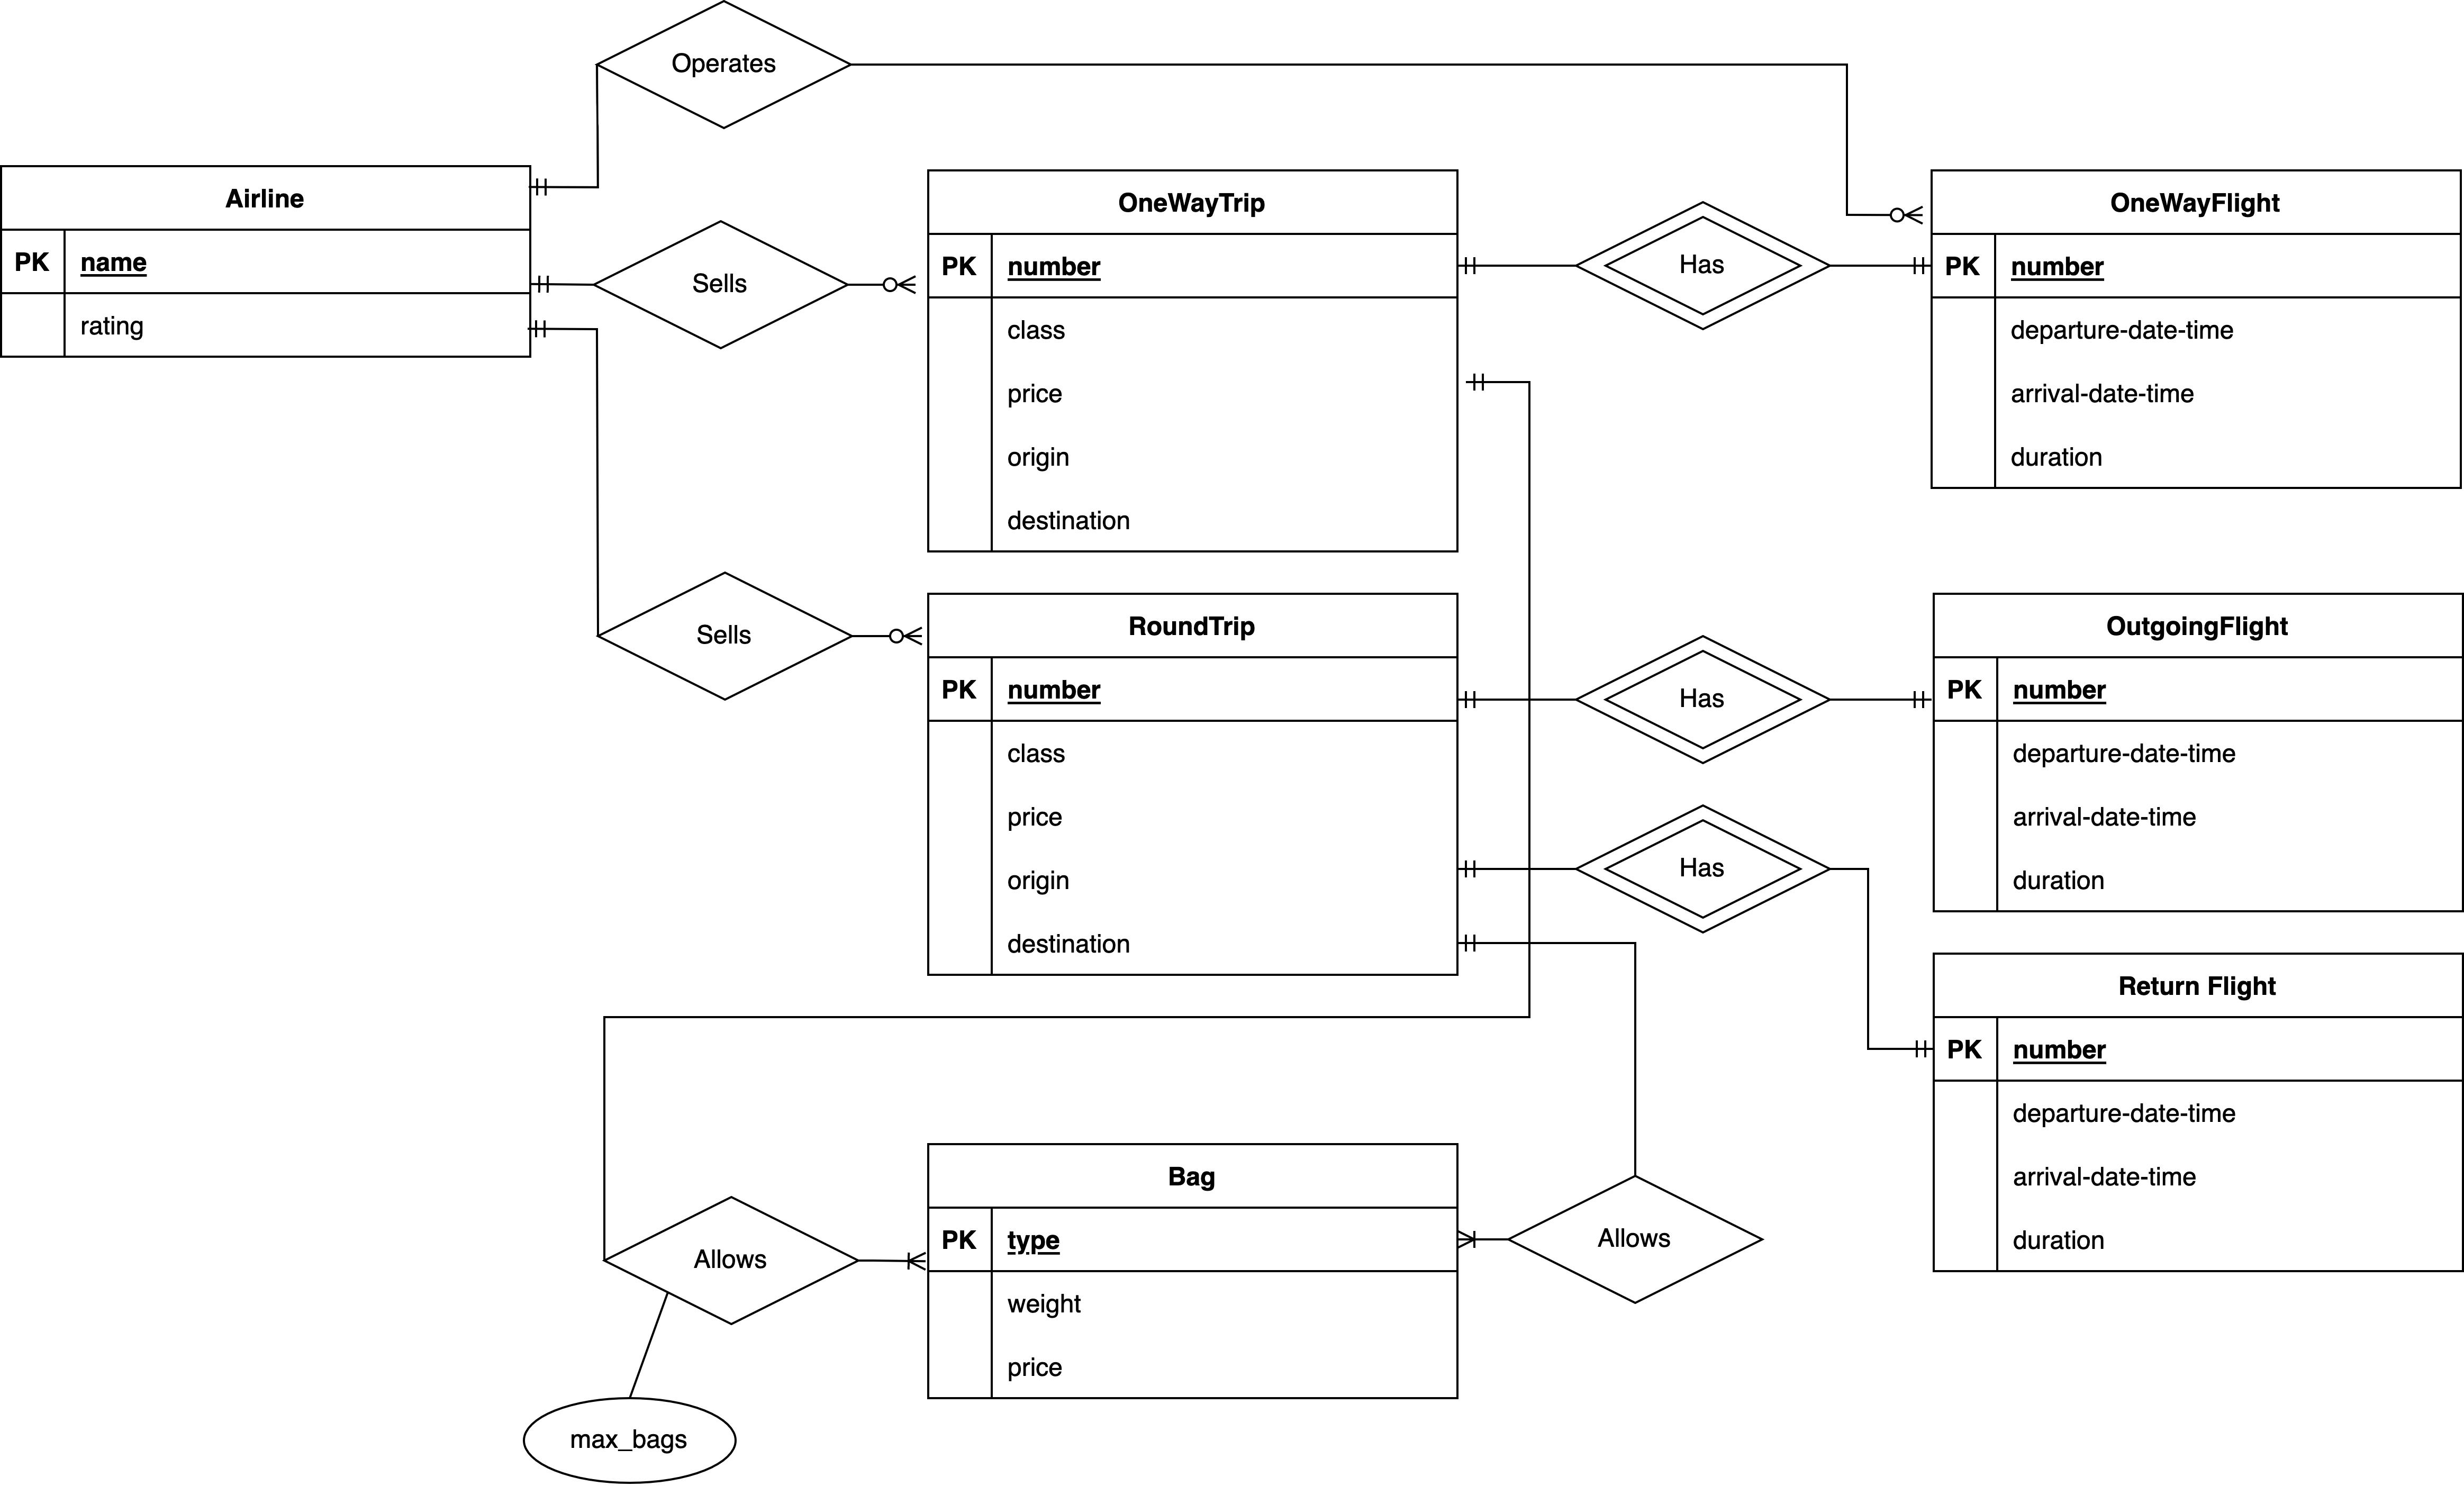attribute: (521, 1393, 737, 1486)
entity: (924, 160, 1464, 556), (920, 590, 1464, 982), (1925, 162, 2464, 493), (1929, 590, 2464, 921), (1929, 951, 2464, 1278), (919, 1136, 1464, 1409), (0, 162, 537, 366)
relationship: (597, 569, 847, 703), (602, 1195, 859, 1324), (595, 0, 848, 130), (1510, 1180, 1765, 1303), (595, 224, 843, 349)
weakrelationship: (1577, 197, 1829, 333), (1582, 805, 1830, 935), (1579, 643, 1832, 764)
